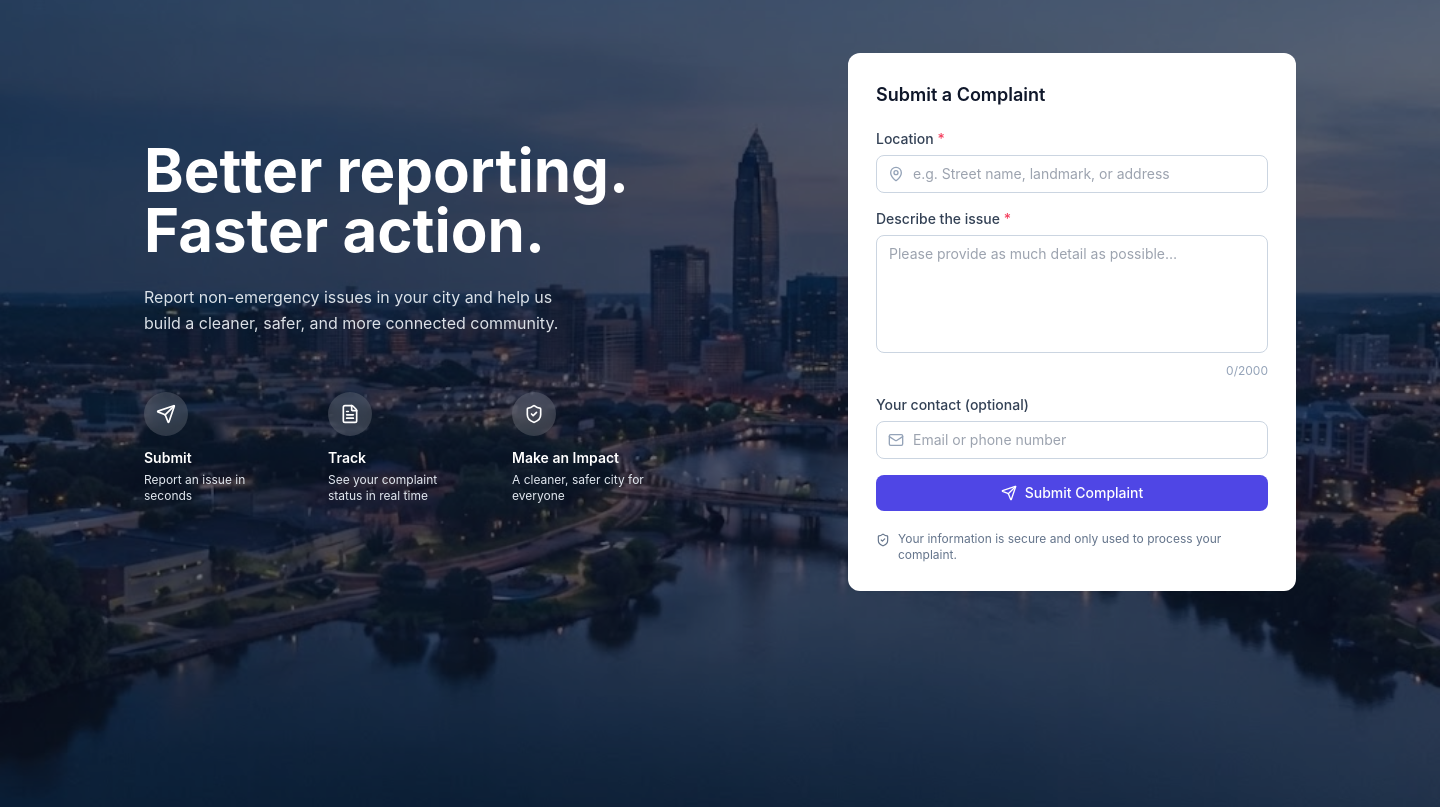
Scenario: Submit view › submits and renders the triage result
The width and height of the screenshot is (1440, 807).
Step 1. Type "Burst water pipe on Street 99 flooding the road" into the text box with placeholder "Please provide as much detail as possible…" → (1072, 294), box [876, 235, 1268, 353]
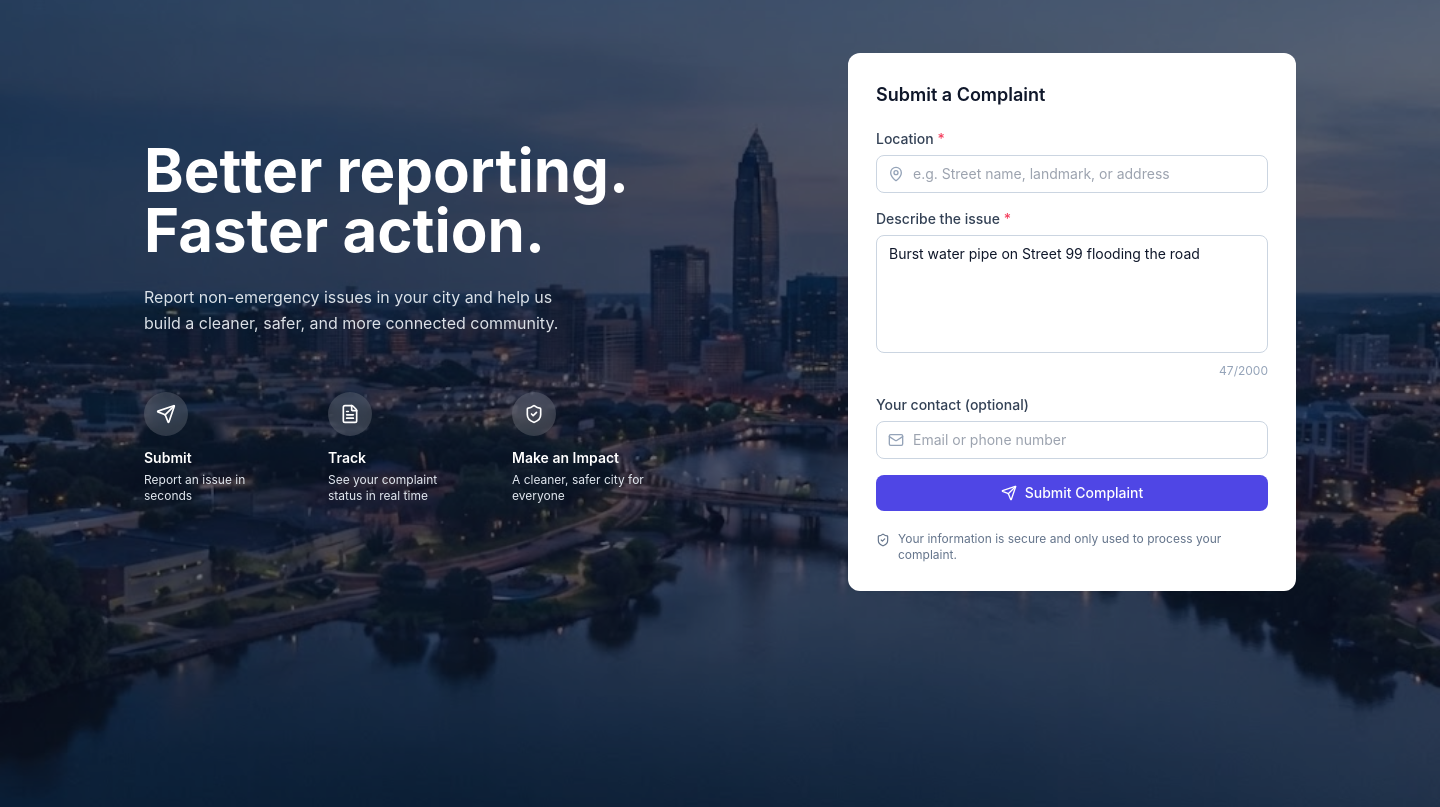
Step 2. Type "Street 99" into the field with placeholder "e.g. Street name, landmark, or address" → (1072, 174), box [876, 155, 1268, 193]
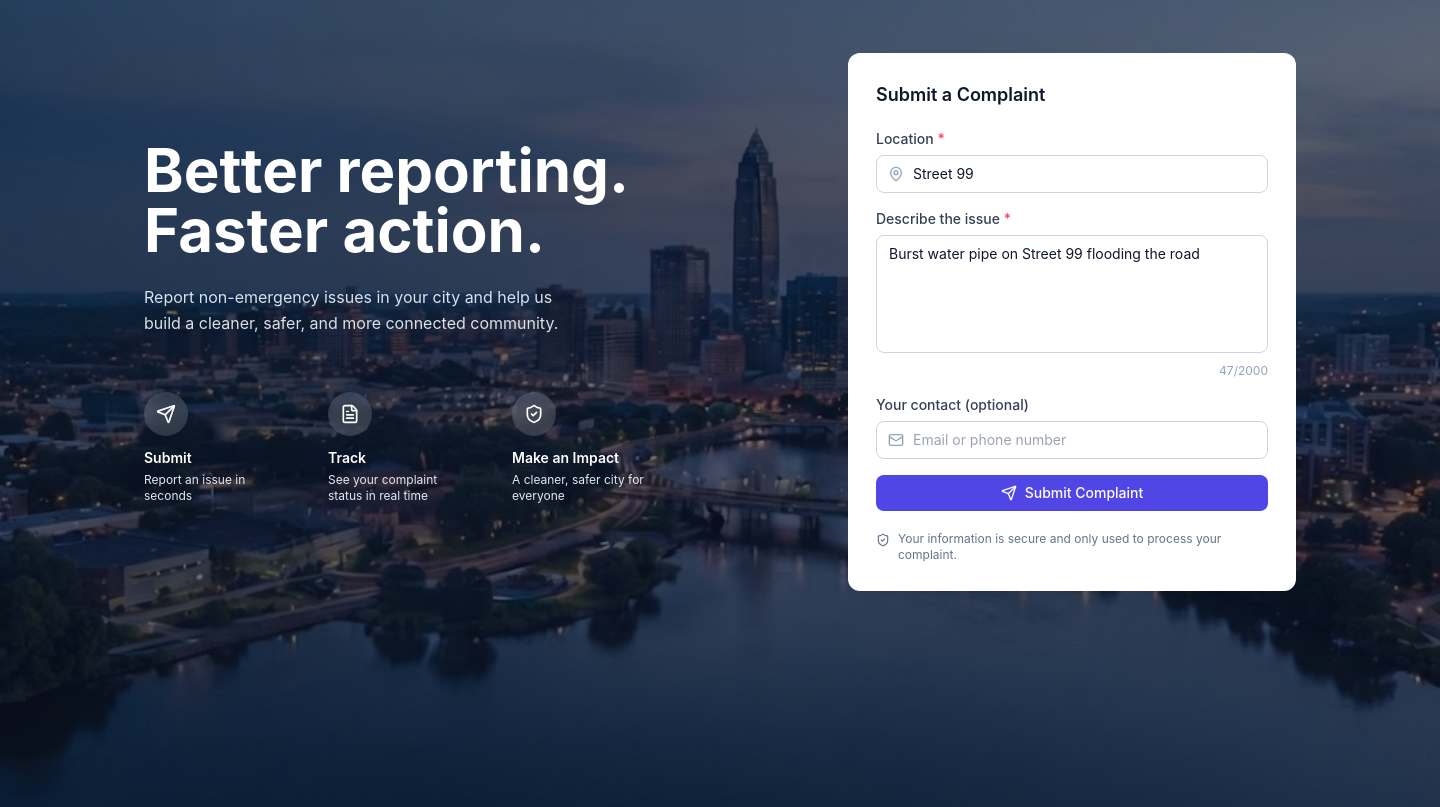
Step 3. Click the button "Submit Complaint" → click(1072, 493), box [876, 475, 1268, 511]
(page scrolled)
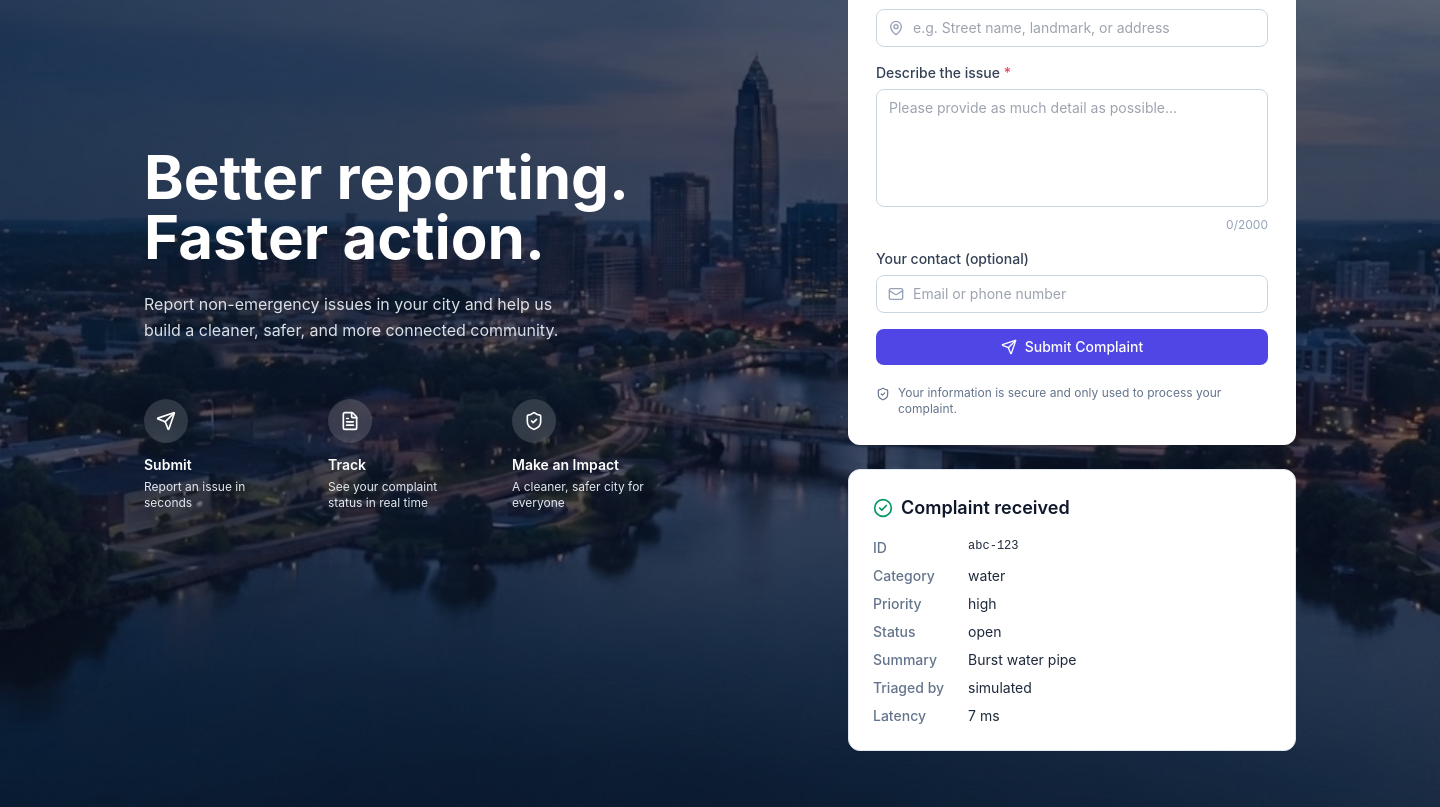
Expected: the heading "Complaint received" is shown, [901, 494, 1070, 522]
Expected: the text "water" is shown, [968, 567, 1005, 584]
Expected: the text "high" is shown, [968, 595, 997, 612]
